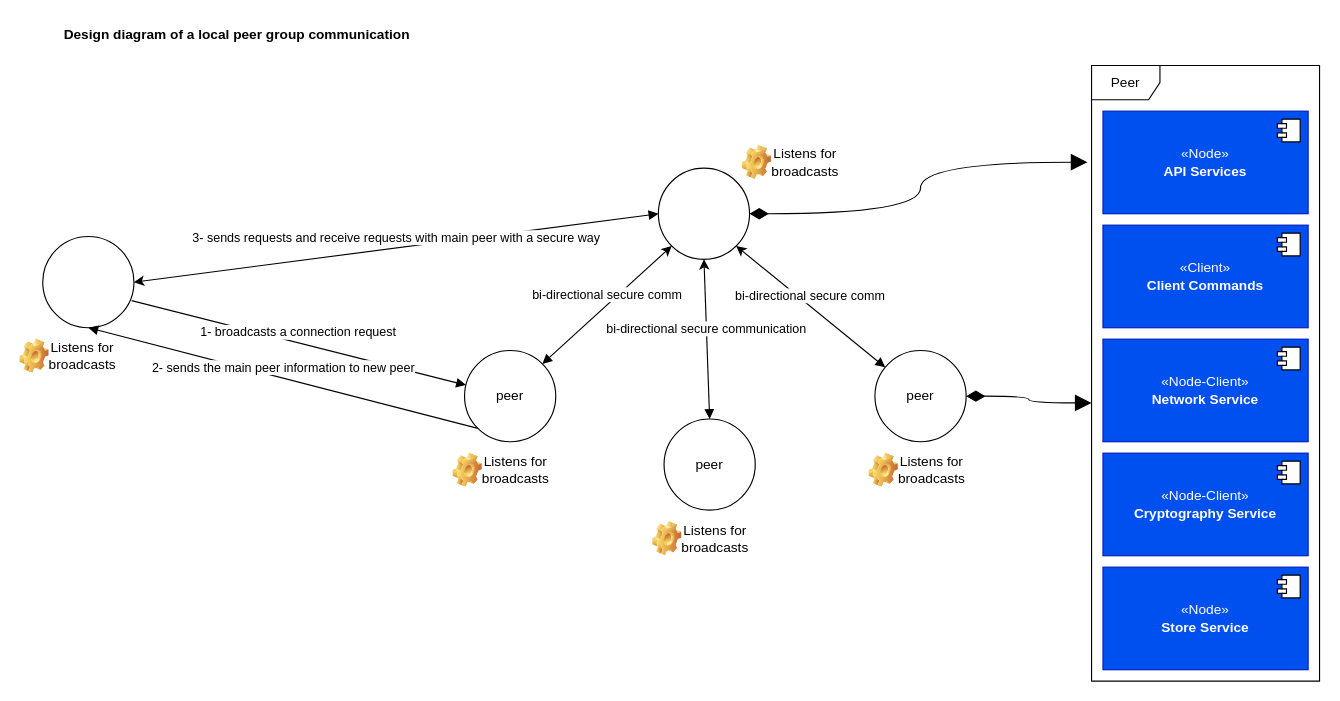
Image size: 1340x701. Some labels were removed from this diagram. Each missing label, with the box of its shape:
Main peer: (657, 167, 750, 259)
new peer: (42, 235, 134, 328)
